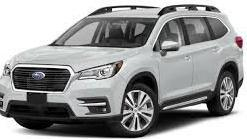SUV: (1, 5, 244, 137)
